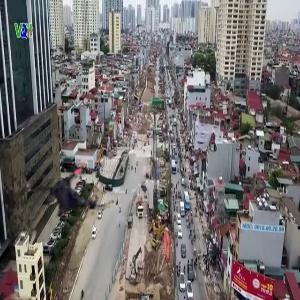drone: (26, 152, 114, 240)
